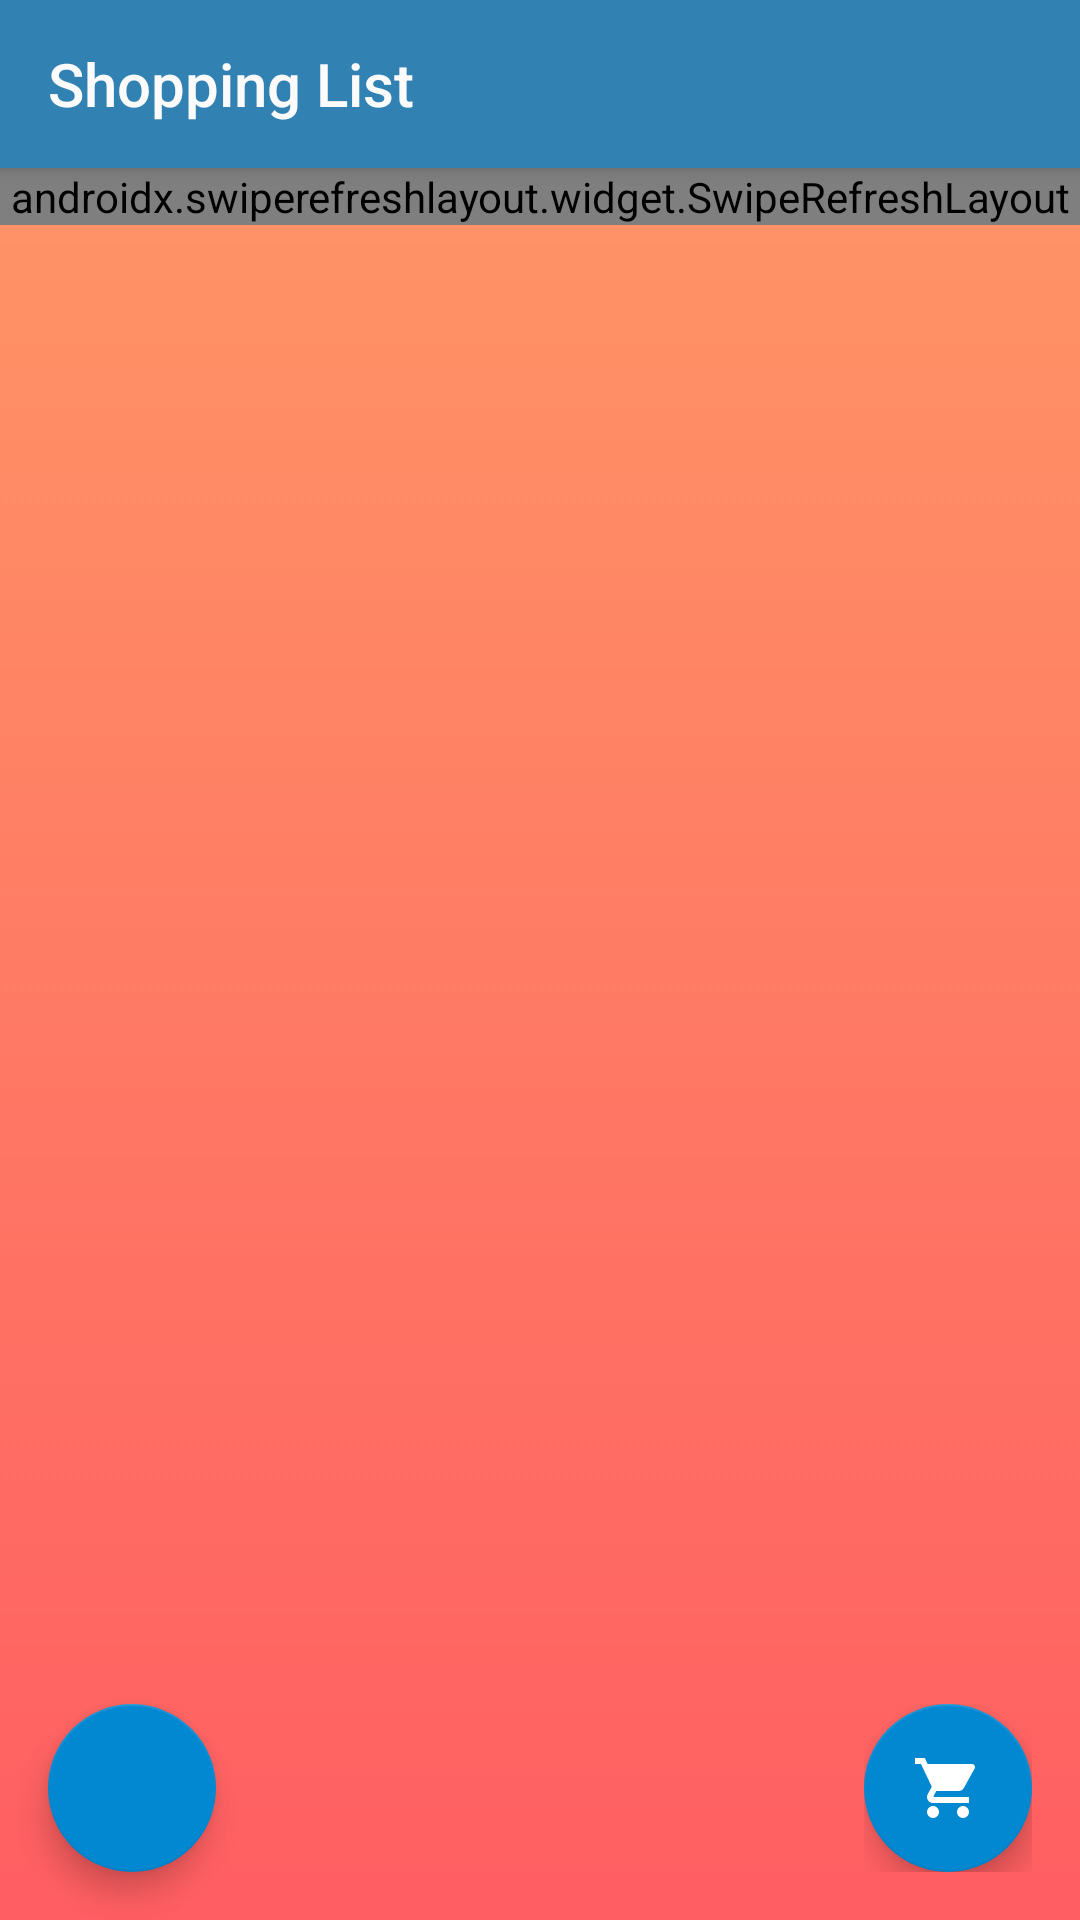

Named icons in this screenshot (1080×1920) and their centers, (x=x, y=y):
shopping basket: (x=948, y=1788)
